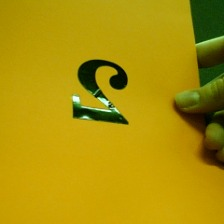orange2: (66, 57, 134, 126)
